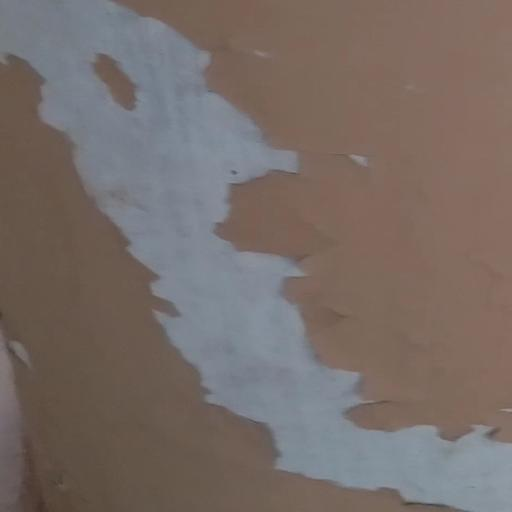peeling: (16, 6, 512, 512)
